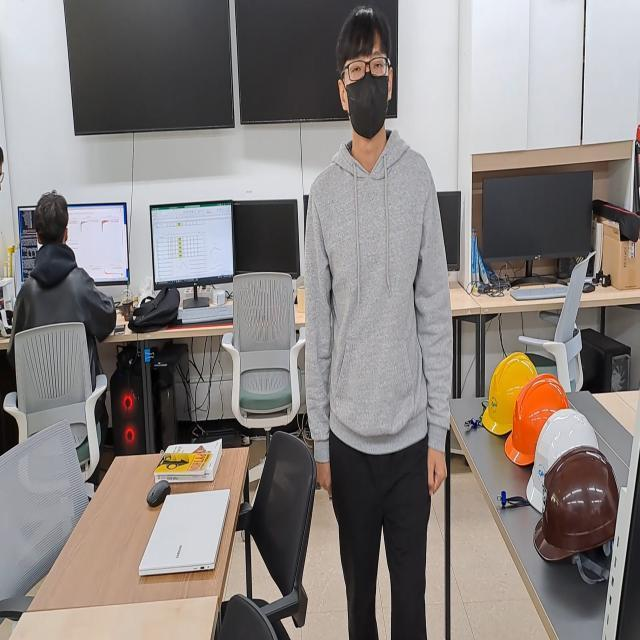vest: (304, 0, 456, 640), (0, 187, 124, 337)
